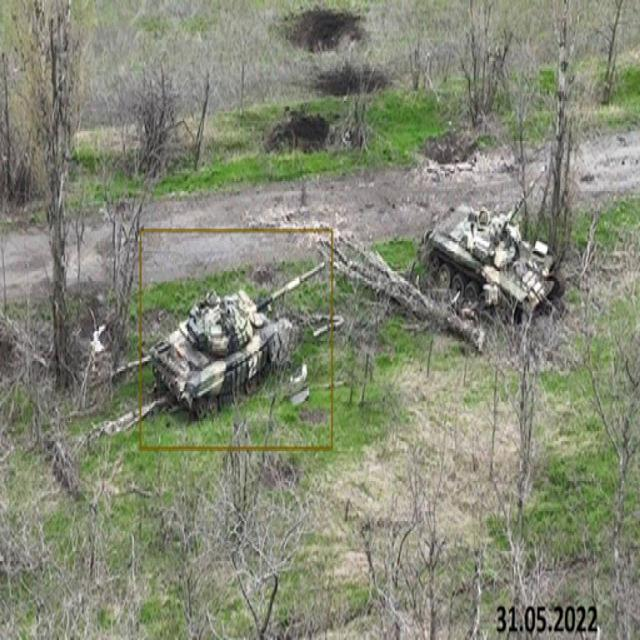TANK: (150, 254, 326, 416), (421, 164, 561, 329)
